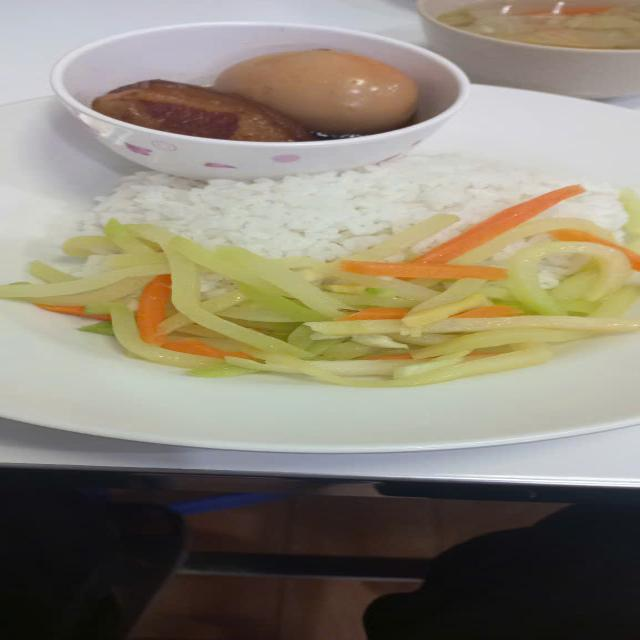com: (80, 154, 567, 262), (546, 184, 628, 246)
kho trung: (92, 50, 416, 142)
rau: (0, 186, 639, 386)
